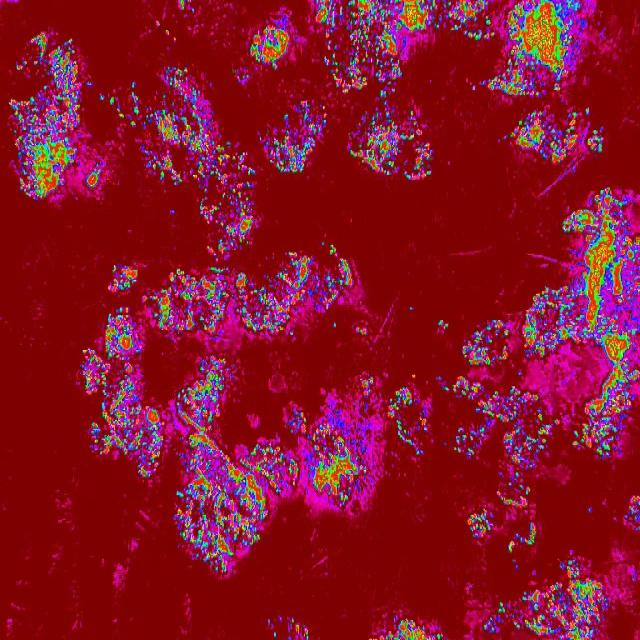fire: (171, 428, 277, 578), (8, 31, 82, 204), (559, 190, 640, 344), (140, 62, 230, 186), (496, 0, 584, 100), (152, 265, 255, 339), (97, 306, 145, 458), (348, 110, 436, 180), (344, 0, 494, 41), (306, 420, 377, 506), (512, 577, 606, 640), (257, 248, 319, 338), (484, 385, 550, 464), (261, 100, 329, 172), (569, 392, 632, 462), (324, 43, 404, 98), (506, 108, 580, 166), (198, 188, 256, 258), (174, 355, 228, 427), (520, 286, 559, 358), (464, 320, 509, 369), (250, 22, 292, 70), (601, 343, 640, 392), (440, 375, 484, 411), (496, 465, 530, 509), (395, 414, 428, 458), (144, 405, 164, 477), (386, 616, 445, 640), (320, 261, 351, 303), (450, 423, 484, 457), (278, 444, 300, 496), (316, 0, 338, 44), (78, 346, 97, 396), (465, 506, 495, 536), (384, 384, 414, 414), (106, 265, 138, 293), (481, 601, 507, 634), (231, 150, 254, 186), (622, 492, 640, 532), (586, 126, 607, 156), (284, 406, 304, 435), (128, 79, 140, 126), (85, 162, 103, 190), (288, 619, 310, 640), (560, 557, 581, 577), (110, 94, 124, 122), (522, 522, 538, 546), (360, 374, 374, 394), (481, 76, 497, 92), (233, 70, 251, 84), (353, 326, 371, 338), (136, 456, 146, 476), (90, 421, 98, 444), (326, 243, 337, 257), (438, 319, 450, 331), (178, 0, 188, 14), (506, 539, 515, 553), (330, 322, 340, 333), (85, 81, 94, 91), (408, 304, 416, 314), (170, 208, 178, 218), (551, 419, 562, 426), (584, 106, 590, 118), (164, 26, 172, 35), (382, 99, 389, 109), (338, 4, 342, 20), (154, 20, 162, 28), (98, 94, 104, 101), (272, 631, 278, 638), (472, 84, 476, 92)
